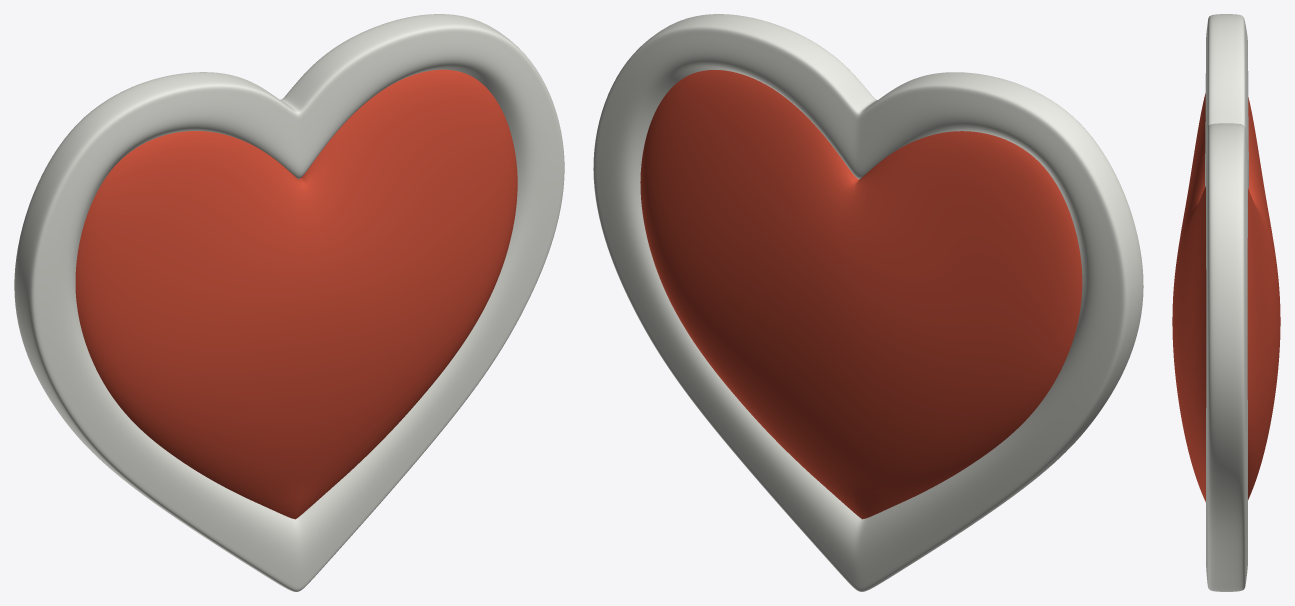
The model's file is HeartpieceFull.fbx.
3 renders of one model, left to right at view 1: azimuth 30°, elevation 25°; view 2: azimuth 150°, elevation 25°; view 3: azimuth 270°, elevation 25°, orthographic. The views are drawn at different scales.
Parts seen in each view (by area): view 1: Cube, Cube.001; view 2: Cube, Cube.001; view 3: Cube.001, Cube.
Boxes of the visible parts, box(x1,y1,x2,y2) form: Cube: box(75, 69, 517, 519); Cube.001: box(14, 14, 564, 591); Cube: box(640, 70, 1082, 519); Cube.001: box(593, 14, 1143, 591); Cube.001: box(1205, 14, 1248, 591); Cube: box(1172, 93, 1280, 502).
Size of the model in its own units: 39.46 by 37.55 by 7.29.
